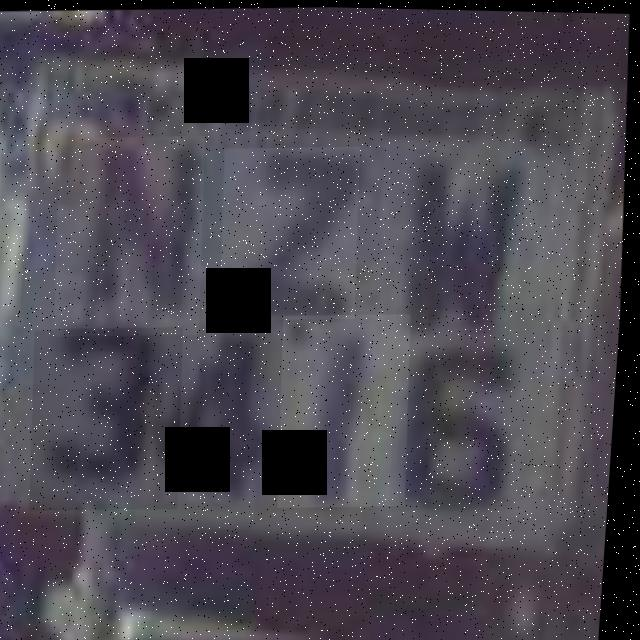1: (277, 310, 422, 508)
3: (30, 325, 194, 513)
4: (153, 319, 309, 515)
6: (389, 299, 563, 512)
N: (51, 132, 214, 340), (377, 129, 521, 322)
Z: (217, 142, 367, 322)
